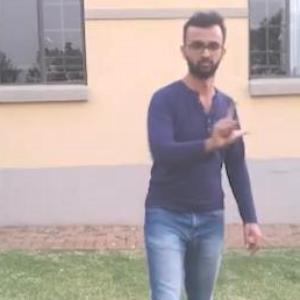land_hand: (202, 93, 258, 151)
